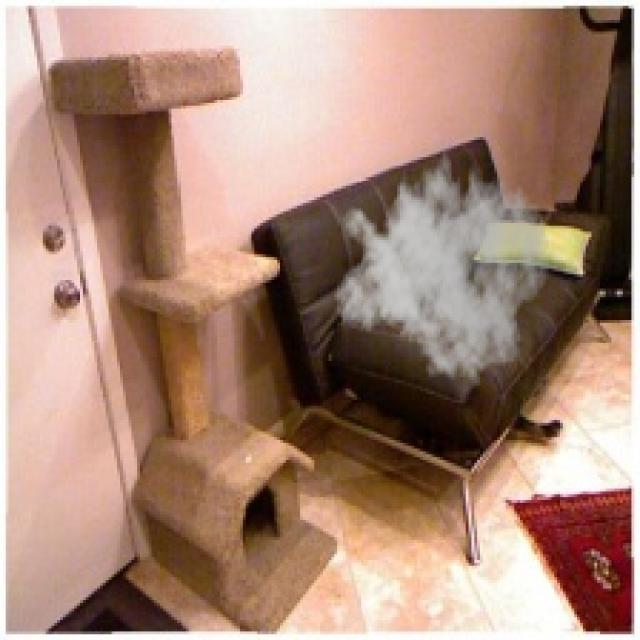Smoke: (334, 137, 552, 389)
